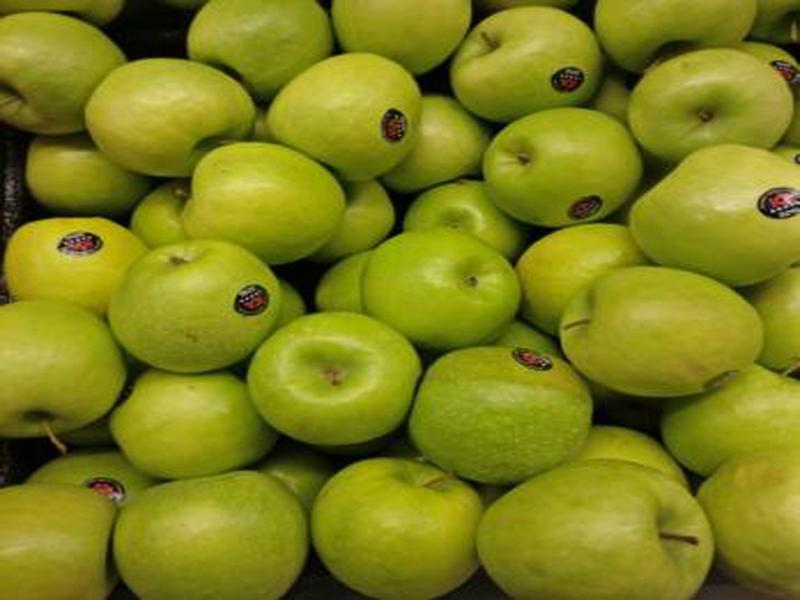green apple: (475, 460, 715, 600), (557, 266, 767, 399), (109, 471, 311, 600), (406, 345, 596, 482), (312, 458, 490, 600), (627, 141, 799, 286), (108, 240, 284, 376), (246, 312, 423, 447), (82, 56, 259, 177), (266, 52, 423, 183), (108, 365, 281, 482), (181, 141, 348, 262), (481, 106, 646, 228), (361, 228, 524, 351), (628, 46, 796, 162), (453, 5, 605, 123), (1, 301, 126, 440), (660, 359, 800, 482), (514, 222, 656, 339), (1, 11, 133, 136), (696, 445, 800, 599), (186, 1, 336, 98), (3, 216, 154, 312), (1, 482, 123, 600), (21, 125, 159, 221), (592, 2, 760, 70), (381, 93, 490, 193), (329, 1, 472, 75), (402, 180, 526, 261), (571, 422, 697, 501), (16, 446, 157, 491), (321, 173, 395, 256), (130, 173, 191, 255), (315, 246, 381, 321), (475, 319, 566, 364)
